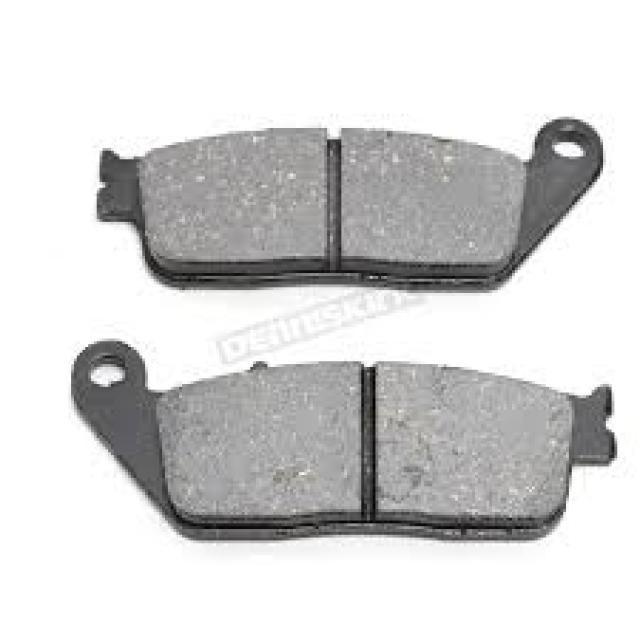brake_pad: (68, 344, 634, 552), (84, 98, 616, 303)
